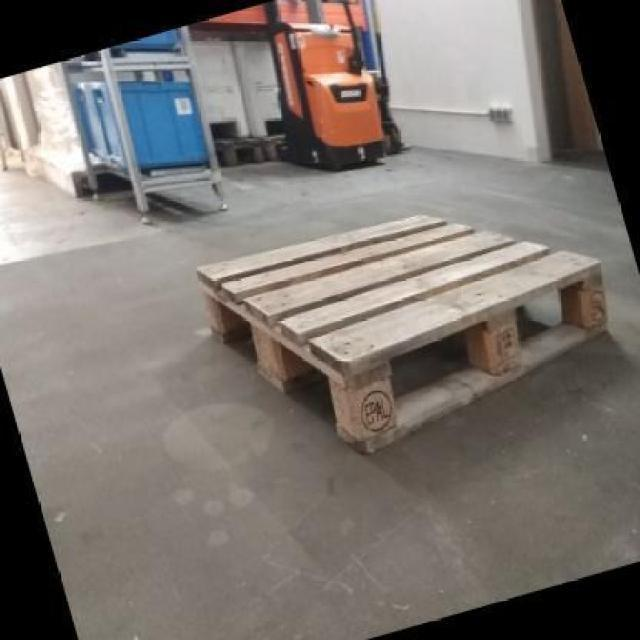forklift: (269, 2, 386, 171)
wood pallet: (464, 306, 521, 376)
